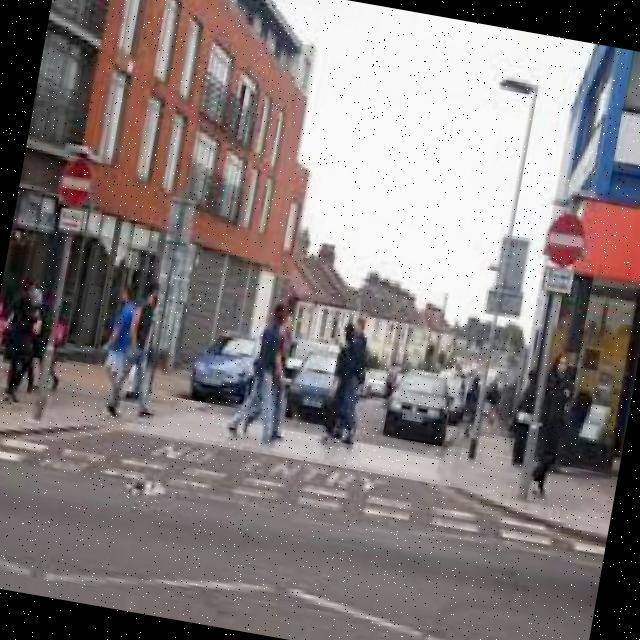Zakaz wjazdu: (539, 204, 593, 268), (52, 152, 99, 212)
